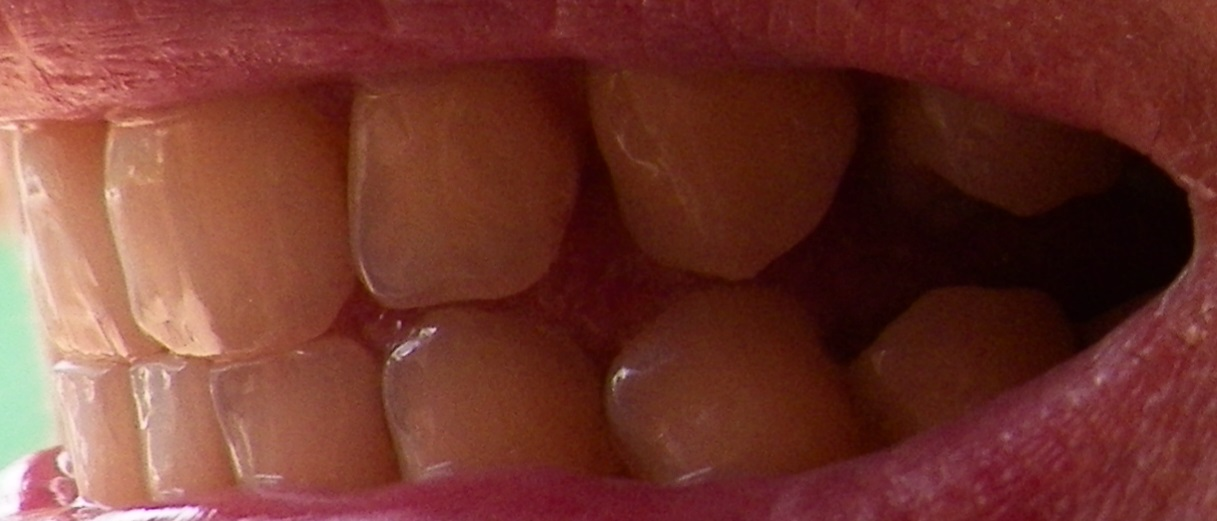boca: (1, 79, 1068, 490)
